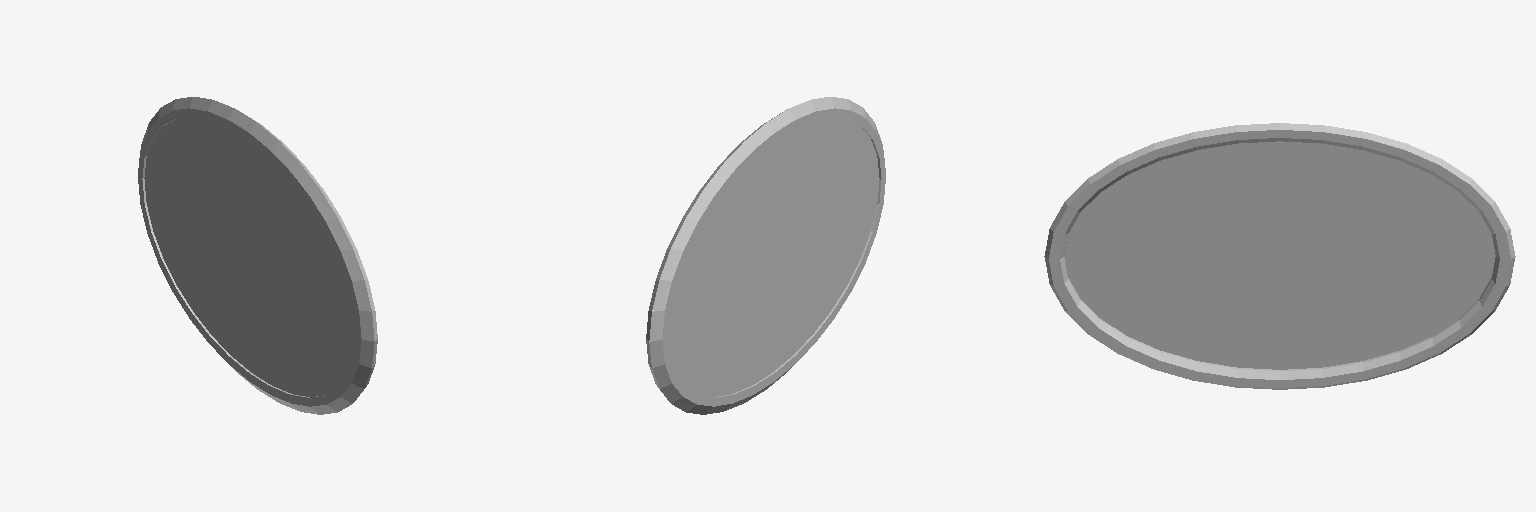
The model's file is defaultMaterial.001.obj.
The picture shows the model from 3 angles: view 1: azimuth 30°, elevation 25°; view 2: azimuth 150°, elevation 25°; view 3: azimuth 270°, elevation 25°; orthographic projection.
Parts seen in each view (by area): view 1: defaultMaterial.001; view 2: defaultMaterial.001; view 3: defaultMaterial.001.
Boxes of the visible parts, x1=… form: defaultMaterial.001: x1=138, y1=97, x2=377, y2=414; defaultMaterial.001: x1=646, y1=97, x2=885, y2=414; defaultMaterial.001: x1=1044, y1=123, x2=1515, y2=389.
Size of the model in its own units: 0.0287 by 0.5809 by 0.929.